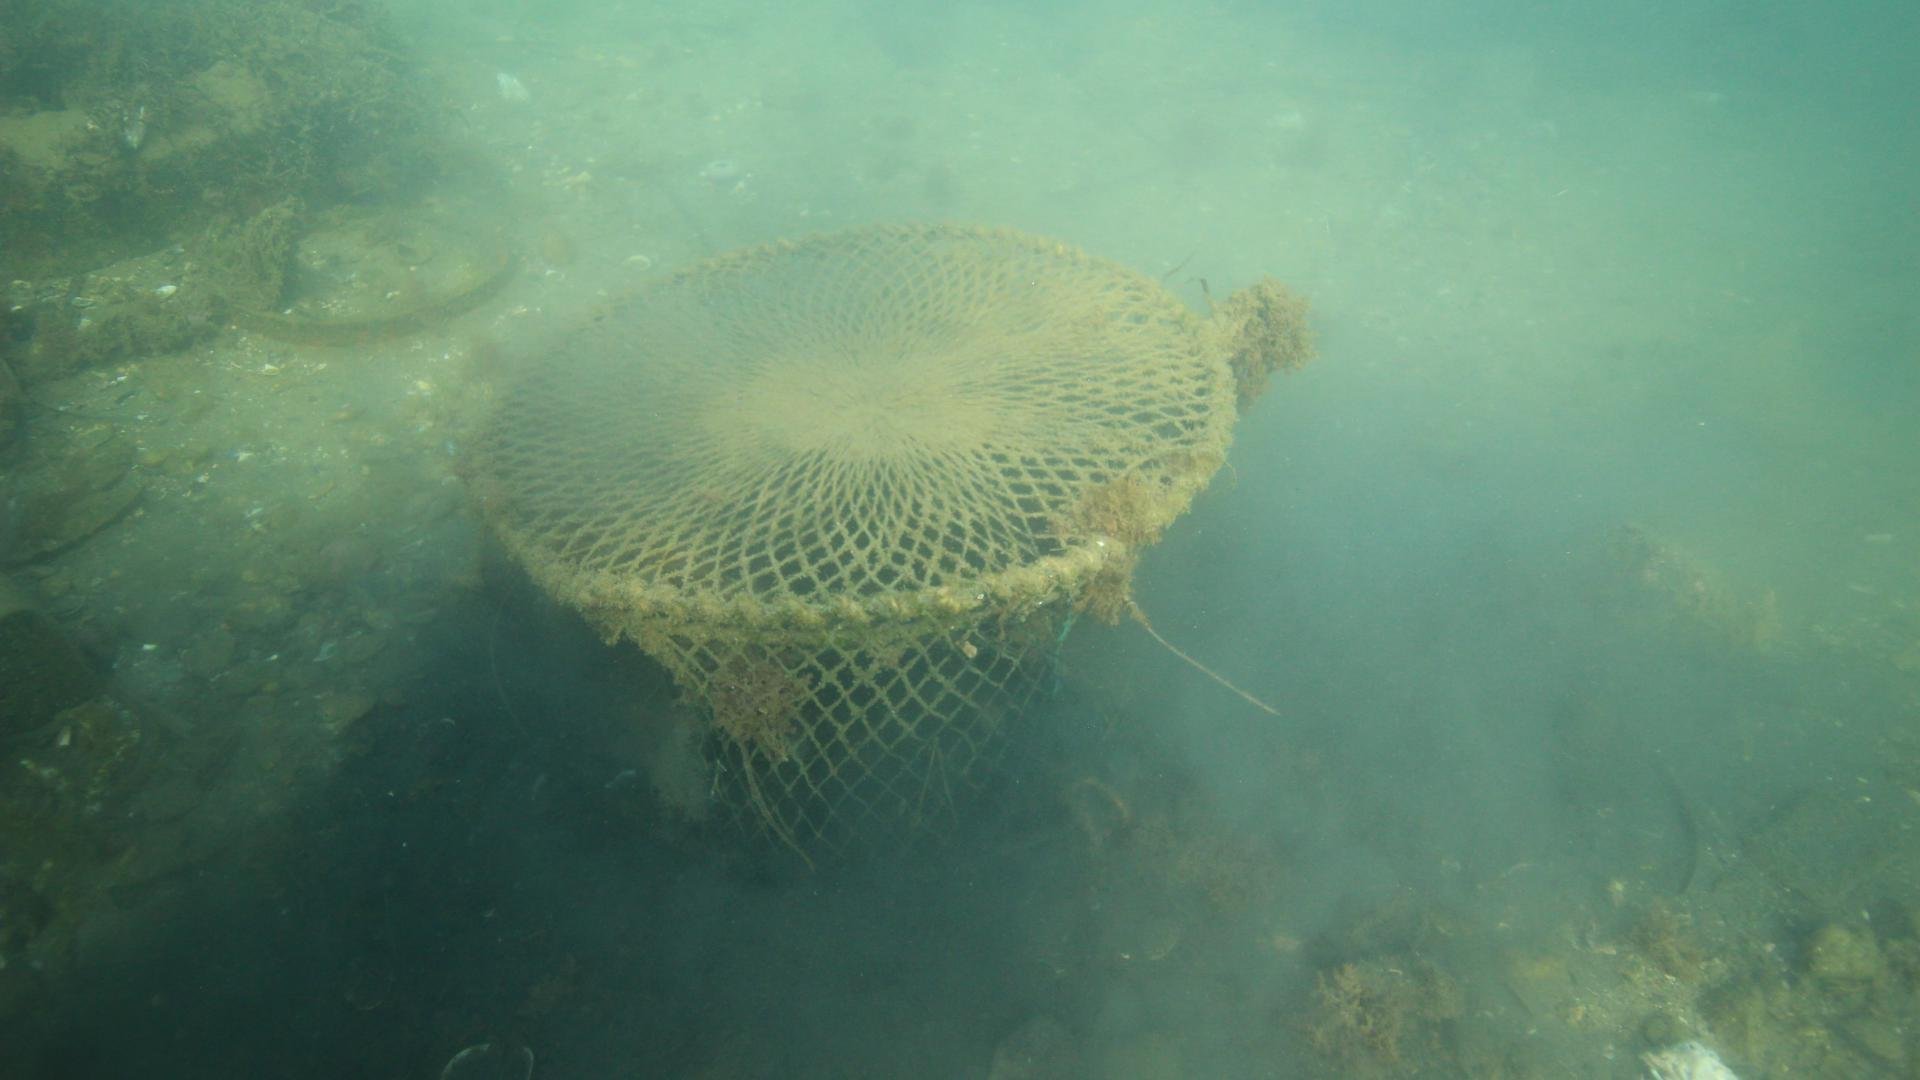circular fish trap: (467, 220, 1236, 868)
